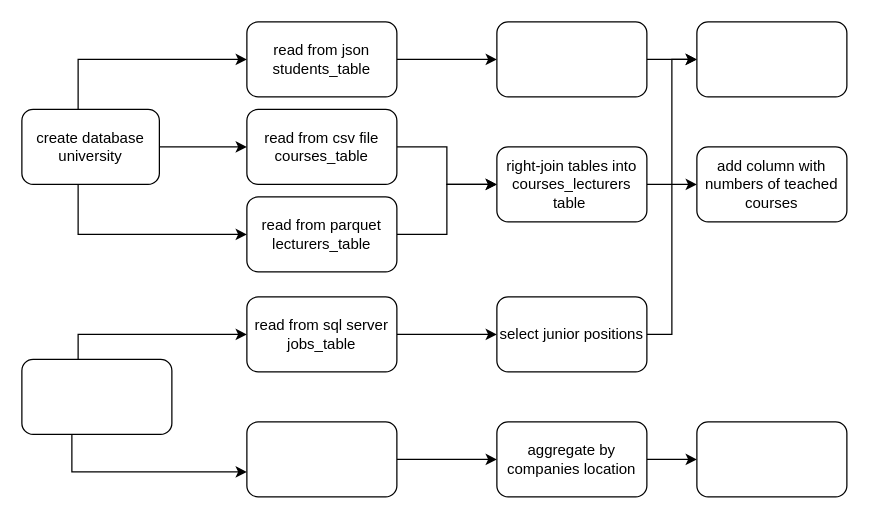
Image size: 869x519. Some labels were removed from this diagram. The shapes that lost their labels are listed below. From the top down, each one's centre as x and y in pixels, then its label:
At point (571, 59): "separate name and surname".
At point (771, 59): "left-join possible jobs".
At point (96, 396): "create database jobs".
At point (321, 459): "read from jar file companies_file".
At point (771, 459): "add column with average income in specific city".
